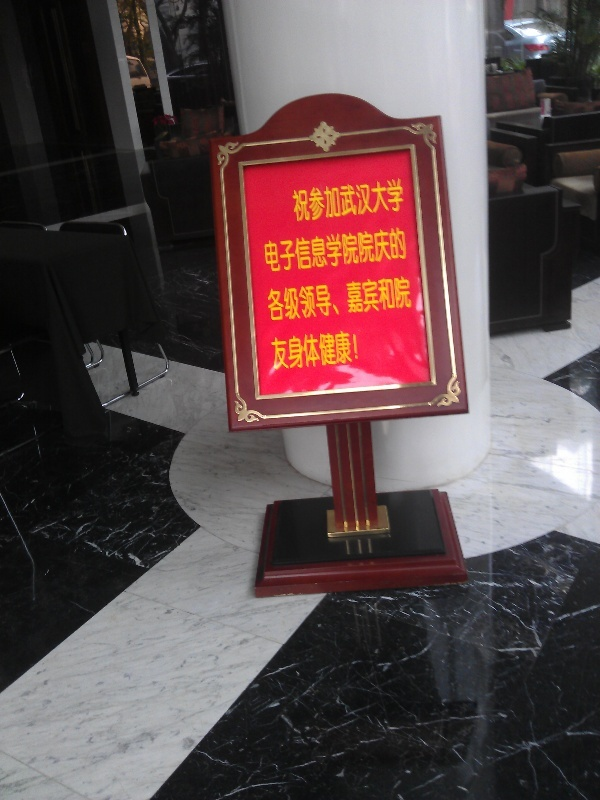text: (273, 225, 288, 276), (289, 225, 304, 276), (305, 225, 320, 276), (321, 225, 336, 276), (337, 225, 352, 276), (353, 225, 368, 276), (369, 225, 384, 276), (385, 225, 400, 276), (289, 176, 304, 225), (305, 176, 320, 225), (321, 176, 336, 225), (337, 176, 352, 225), (353, 176, 368, 225), (369, 176, 384, 225), (385, 176, 400, 225), (273, 327, 288, 376), (289, 327, 304, 376), (305, 327, 320, 376), (321, 327, 336, 376), (337, 327, 352, 376), (273, 276, 288, 324), (289, 276, 304, 324), (305, 276, 320, 324), (321, 276, 336, 324), (337, 276, 352, 324), (353, 276, 368, 324), (369, 276, 384, 324), (385, 276, 400, 324), (259, 225, 272, 276), (401, 276, 414, 324), (401, 225, 409, 276), (264, 276, 272, 324), (353, 327, 360, 376), (401, 176, 407, 225), (269, 327, 272, 376)
